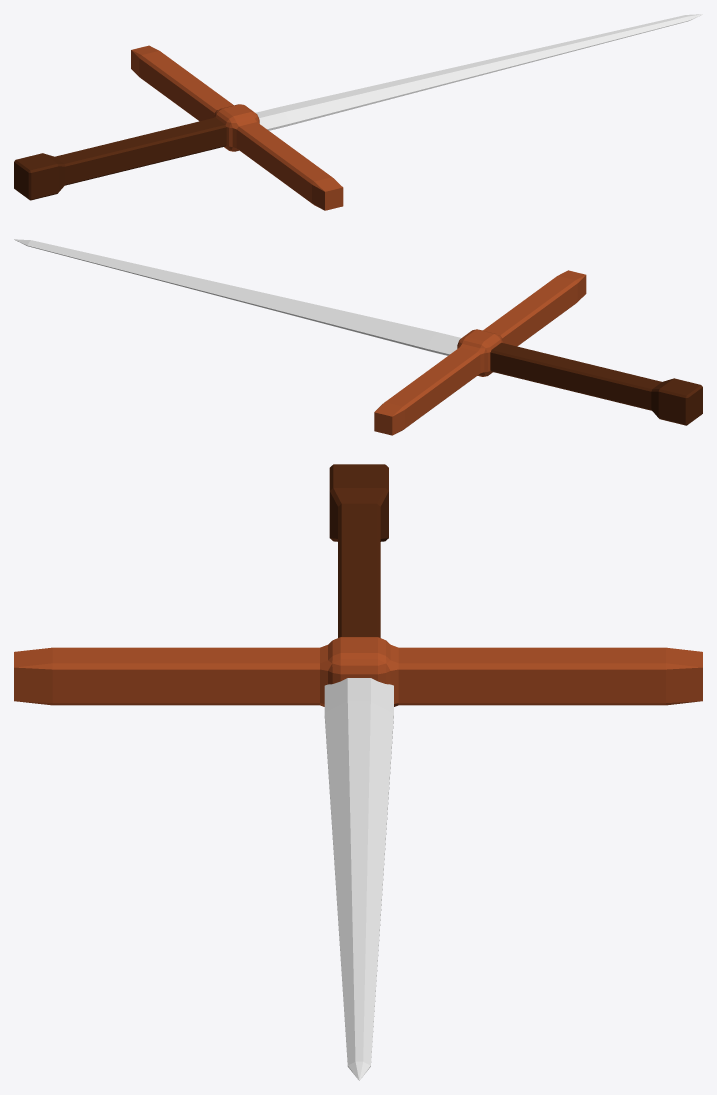
Rendered from sword_test.fbx.
The picture shows the model from 3 angles, top to bottom: view 1: azimuth 30°, elevation 25°; view 2: azimuth 150°, elevation 25°; view 3: azimuth 270°, elevation 25°; orthographic projection. The views are drawn at different scales.
Visible parts, largest first — view 1: Cube.001, Cube, Cube.002; view 2: Cube.001, Cube, Cube.002; view 3: Cube.001, Cube.002, Cube.
Part boxes in pixels (x1,y1,x2,y2): Cube.001: [131, 45, 343, 210]; Cube: [14, 117, 226, 200]; Cube.002: [255, 14, 702, 130]; Cube.001: [374, 270, 586, 435]; Cube: [490, 342, 702, 425]; Cube.002: [14, 239, 461, 355]; Cube.001: [14, 637, 702, 706]; Cube.002: [324, 678, 393, 1080]; Cube: [329, 464, 388, 637].
Size of the model in its own units: 4033 by 200 by 1988.
